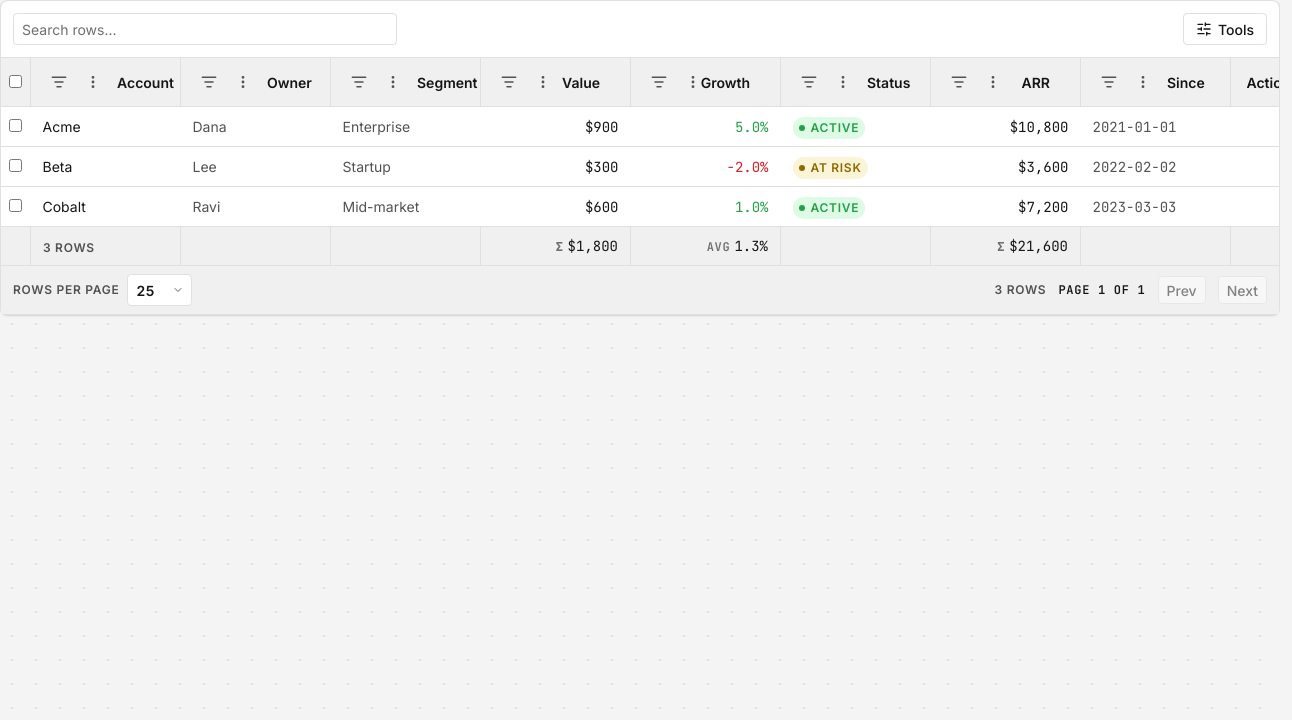
DataGrid row selection › select-all only covers visible filtered rows
The width and height of the screenshot is (1292, 720).
Step 1. Type "Acme" into the search field named "quick filter" → (205, 29), box [13,13,397,45]
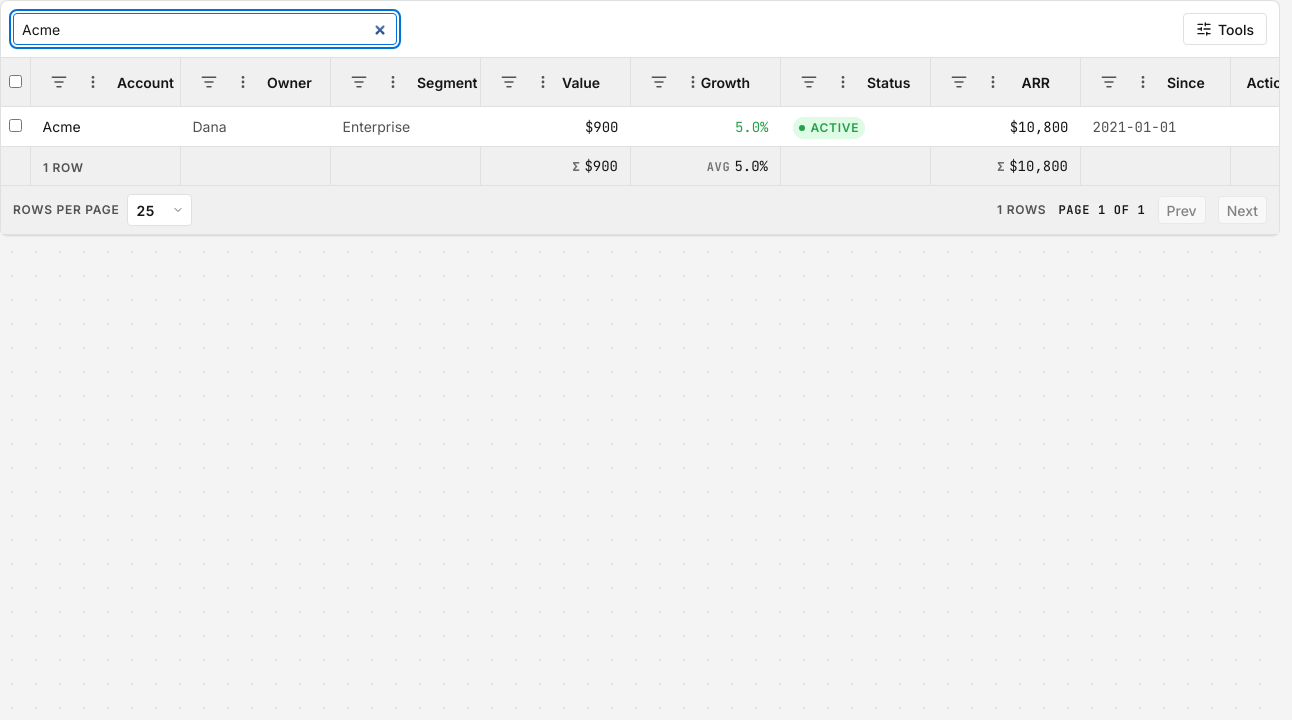
Step 2. Click the checkbox named "select all" → (16, 81), box [9,74,22,88]
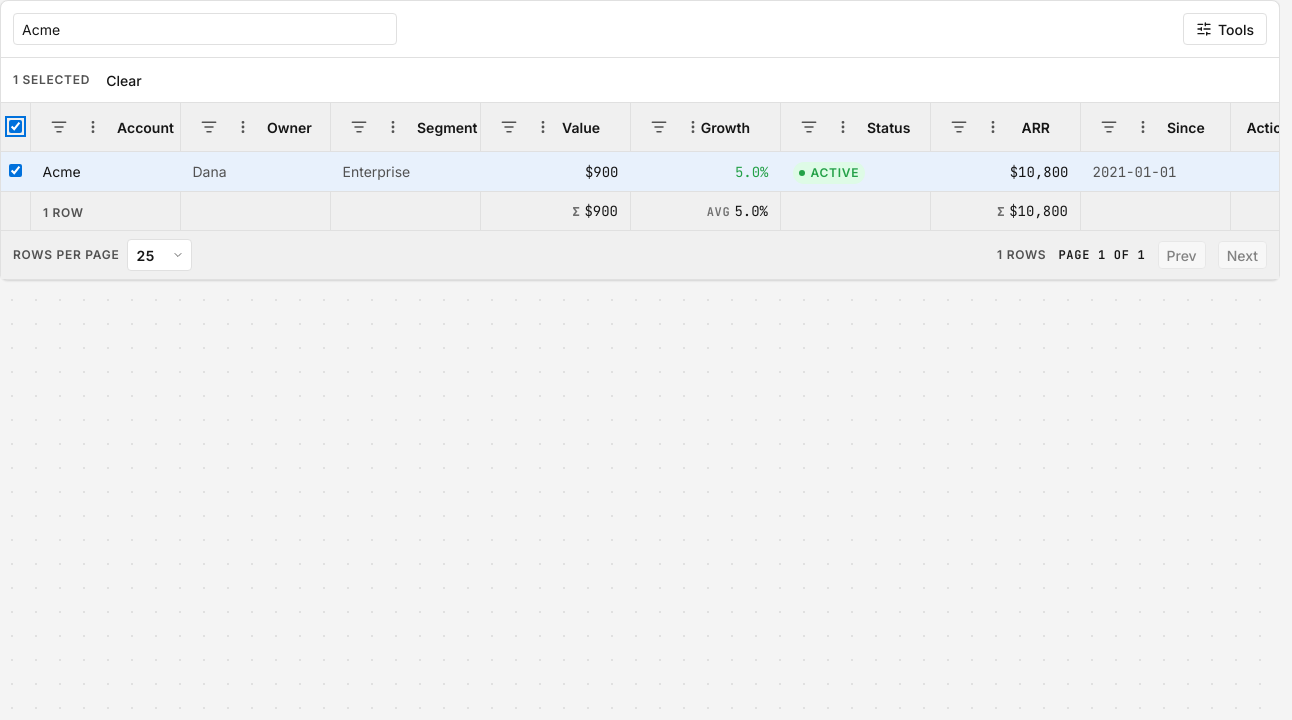
Expected: the text "Beta" is not shown
Now the checkbox named "Select Acme" is checked, box [9,164,22,177]
Now the text "1 selected" is shown, box [13,71,90,89]
